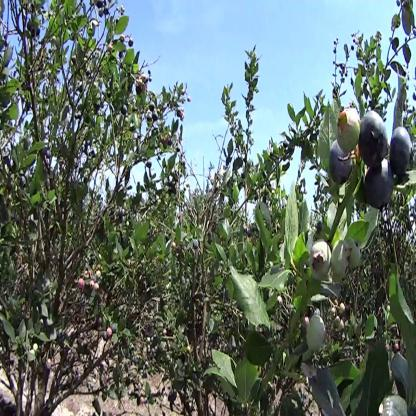intermediate: (80, 280, 84, 286), (108, 330, 112, 336)
mature: (359, 109, 387, 160), (362, 167, 394, 210), (388, 130, 413, 173), (332, 139, 351, 179)
young: (336, 105, 359, 151), (305, 311, 329, 348), (309, 238, 332, 276), (332, 247, 357, 280)
